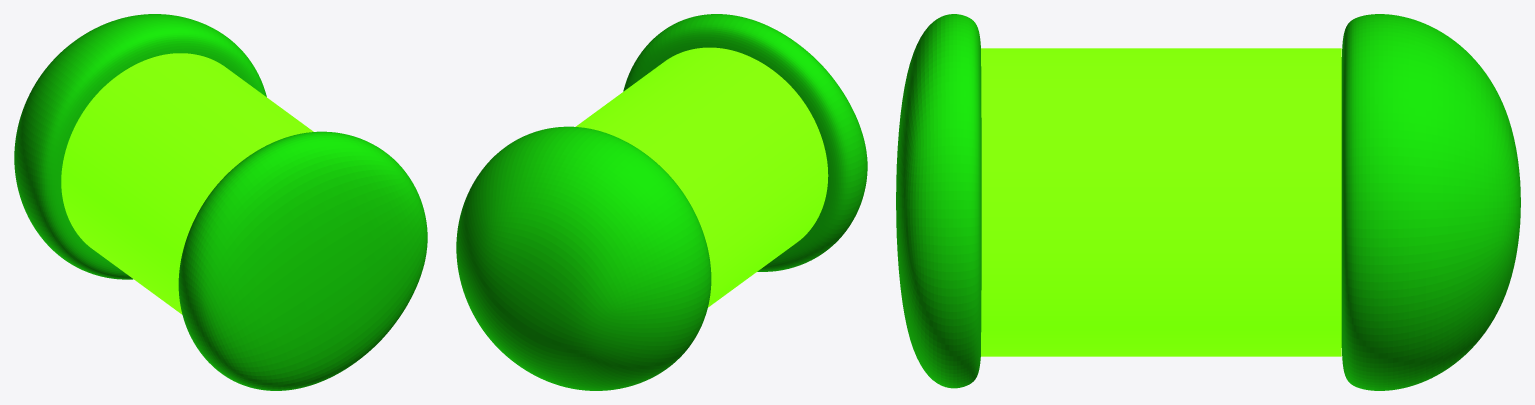
The model's file is OrbeVerde.fbx.
3 views of the same model, side by side, from view 1: azimuth 30°, elevation 25°; view 2: azimuth 150°, elevation 25°; view 3: azimuth 270°, elevation 25° (orthographic). The views are drawn at different scales.
Visible parts, largest first — view 1: Cubo; view 2: Cubo; view 3: Cubo.
Part boxes in pixels (x1,y1,x2,y2): Cubo: [14, 14, 427, 390]; Cubo: [456, 14, 867, 390]; Cubo: [896, 14, 1520, 390].
Size of the model in its own units: 23.91 by 23.93 by 39.58.
